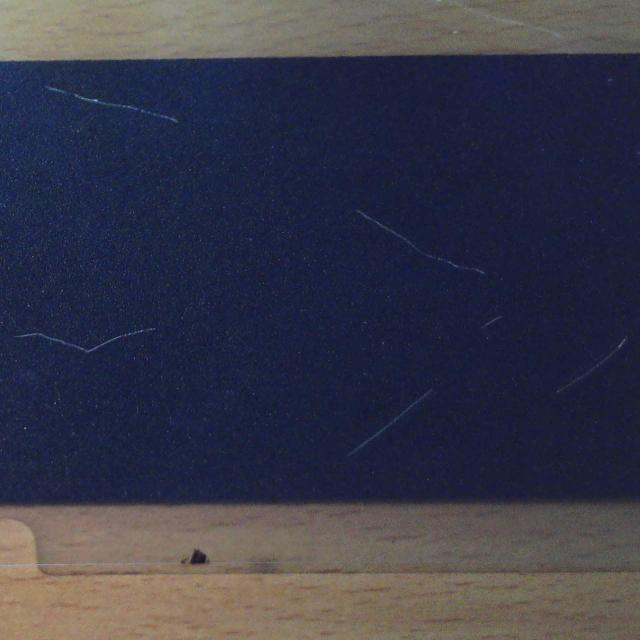defect: (359, 205, 487, 278), (45, 84, 181, 130), (349, 387, 433, 458), (555, 334, 628, 396), (14, 328, 156, 354), (483, 313, 505, 327)
